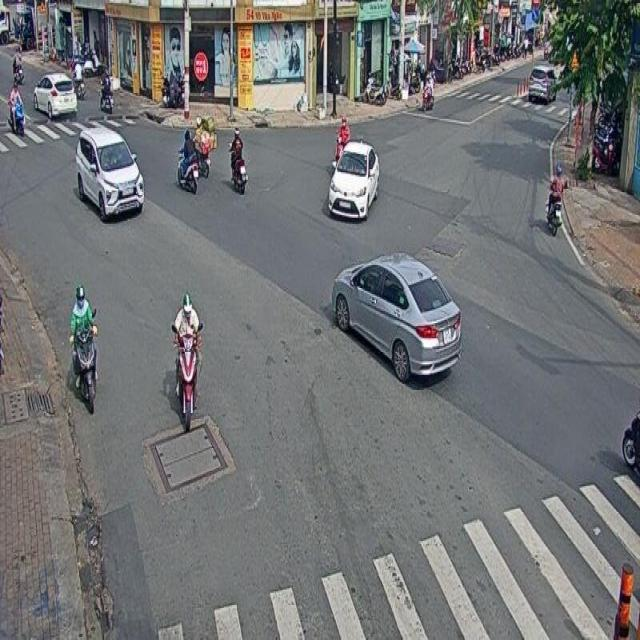car: (331, 250, 460, 381), (75, 126, 143, 220), (329, 140, 379, 220)
motorcycle: (170, 292, 202, 432), (68, 283, 98, 413), (176, 131, 198, 194), (546, 163, 565, 235), (228, 126, 248, 194)
